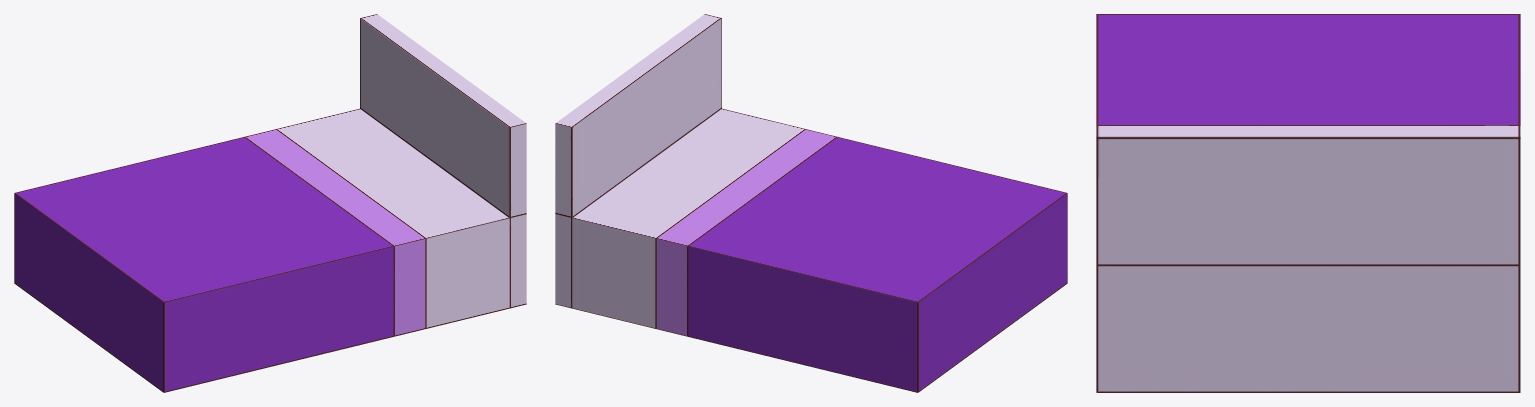
The model's file is Rabbit_Bed.fbx.
The picture shows the model from 3 angles, left to right: view 1: azimuth 30°, elevation 25°; view 2: azimuth 150°, elevation 25°; view 3: azimuth 270°, elevation 25°; orthographic projection. The views are drawn at different scales.
Visible parts, largest first — view 1: Box001; view 2: Box001; view 3: Box001.
Boxes of the visible parts, left/top/right/bottom form: Box001: left=14, top=14, right=526, bottom=392; Box001: left=555, top=14, right=1067, bottom=392; Box001: left=1096, top=14, right=1520, bottom=392.
Size of the model in its own units: 84 by 40 by 60.
1 material, 1 textured.
